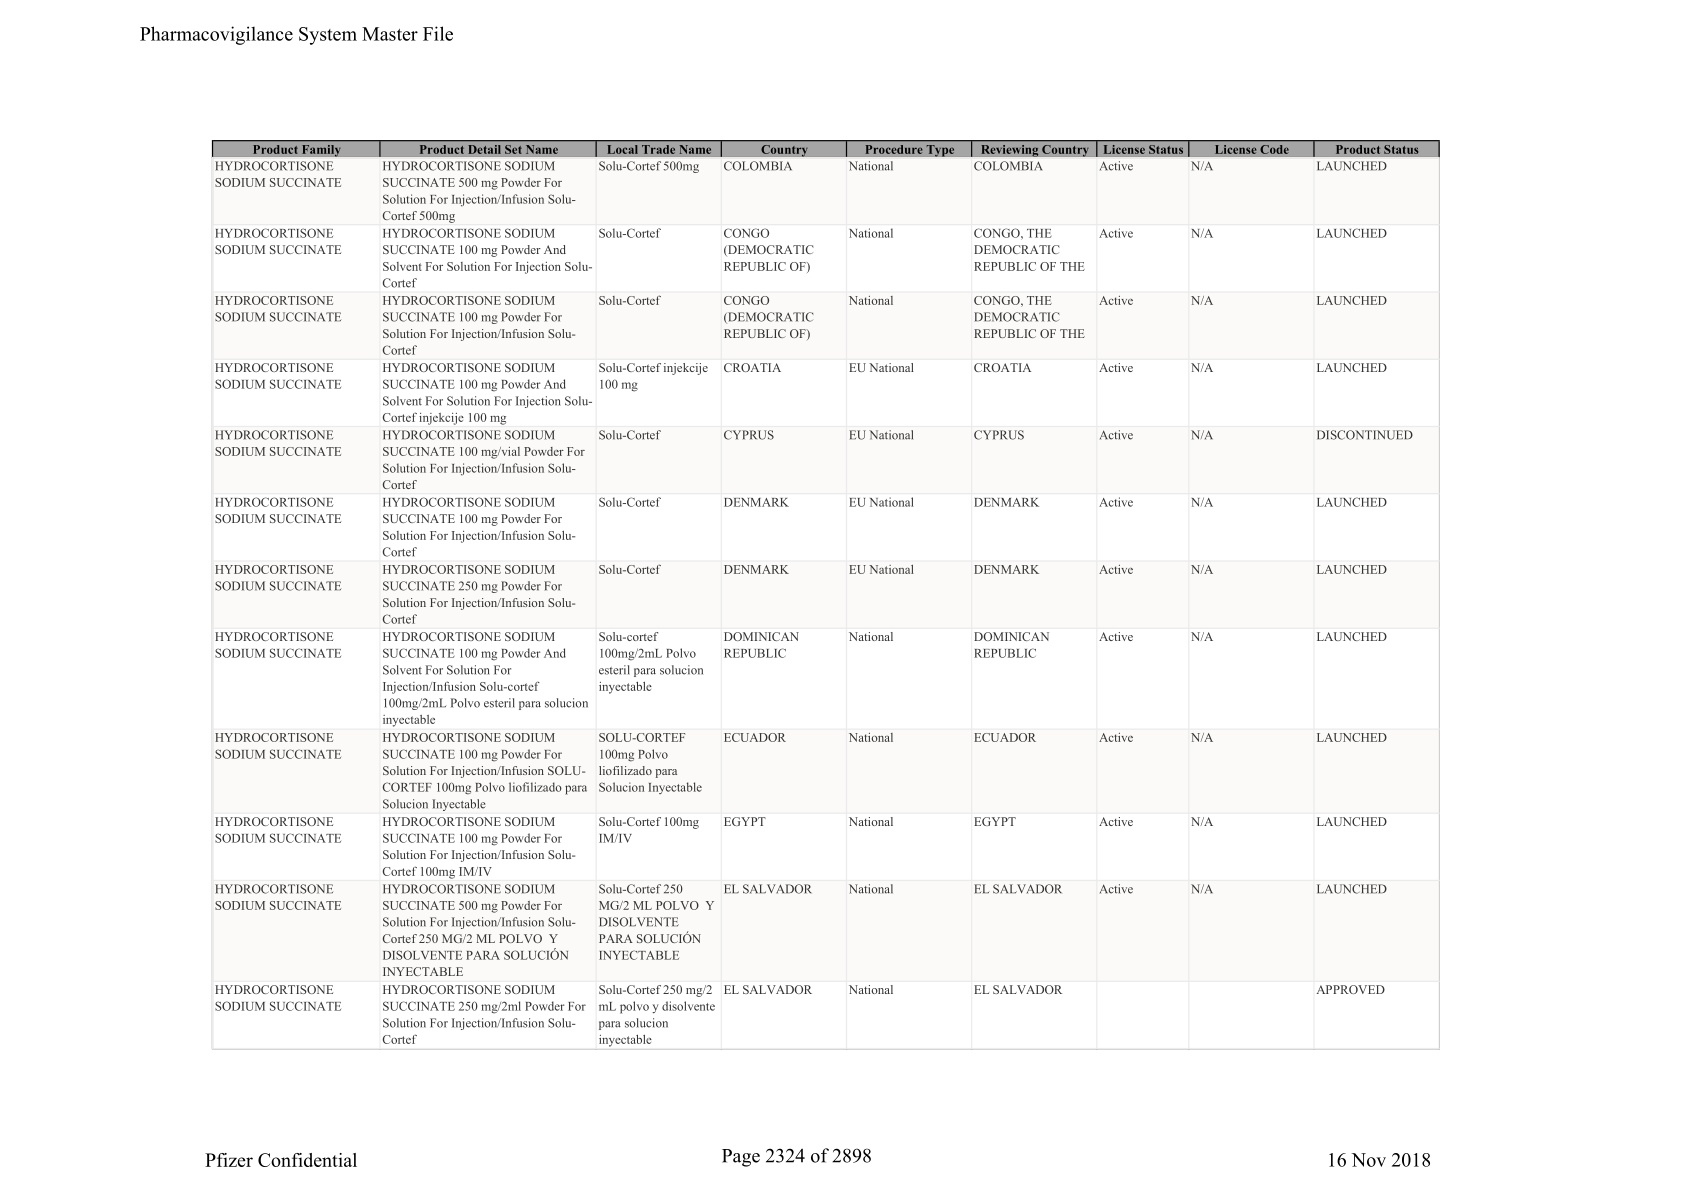full_lined: (210, 140, 1441, 1052)
